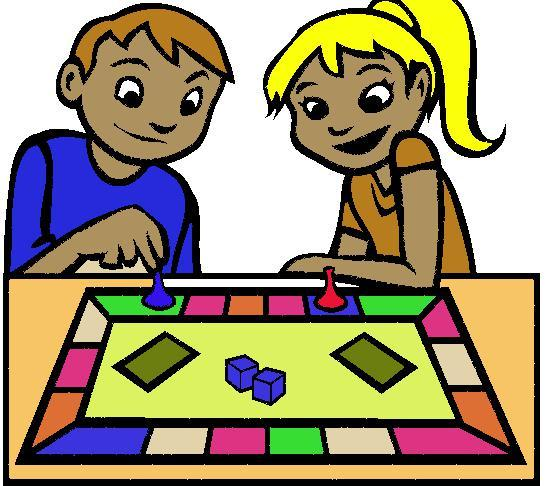person: (259, 1, 511, 295), (6, 2, 236, 274)
